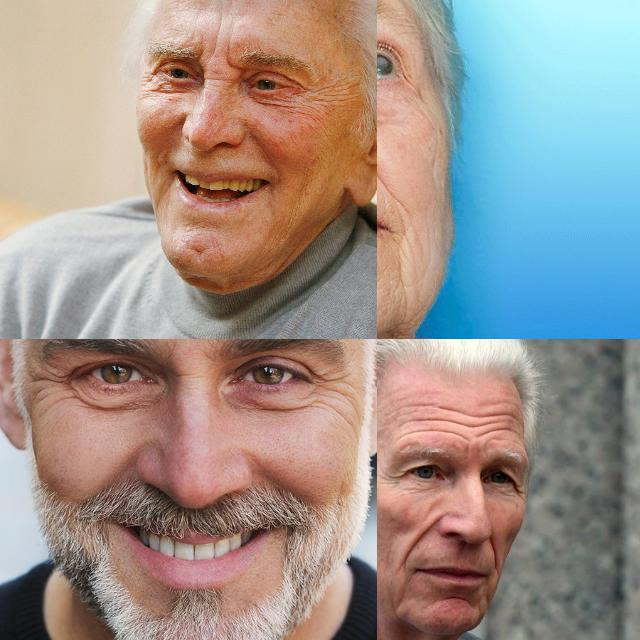chin: (444, 588, 472, 608)
crows_feet: (310, 362, 348, 410), (35, 363, 69, 402), (295, 84, 321, 110), (508, 471, 528, 504), (142, 60, 162, 90), (383, 467, 402, 489)
forehead: (400, 402, 440, 436), (446, 401, 476, 443), (480, 408, 518, 440), (219, 0, 237, 9)
frown_line: (222, 38, 235, 70), (210, 32, 222, 64)
gummy_smile: (406, 518, 438, 560), (377, 148, 392, 188), (486, 536, 500, 570)
sad_smile: (392, 242, 411, 292)
